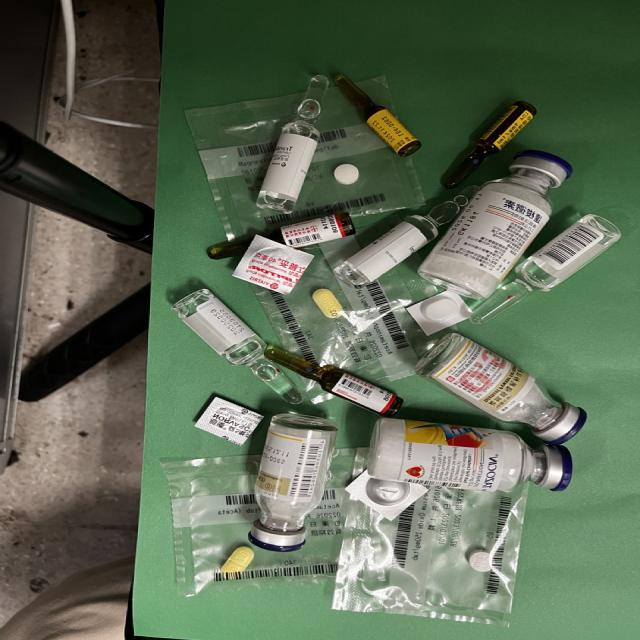Ampoules: (469, 214, 621, 324), (172, 289, 301, 404), (333, 186, 479, 286), (257, 75, 328, 214), (264, 346, 402, 416), (445, 102, 536, 189), (333, 75, 421, 157), (269, 212, 355, 248), (207, 239, 250, 260)
Vials: (418, 150, 572, 300), (416, 333, 586, 445), (367, 418, 572, 492), (248, 413, 337, 552)
